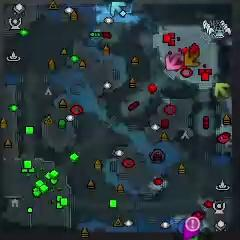Other: (186, 217, 200, 232)
p1: (178, 218, 185, 235)
p3: (184, 222, 200, 240)
x1: (165, 53, 181, 71)
x2: (215, 82, 229, 98)
x3: (110, 1, 128, 16)
x5: (184, 51, 200, 67)
